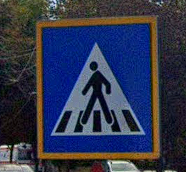trecere_pietoni: (31, 18, 165, 161)
